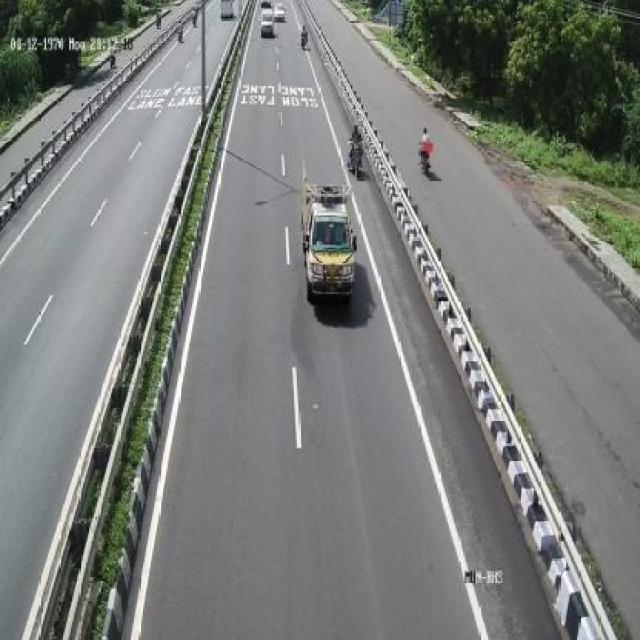car: (298, 175, 357, 297)
